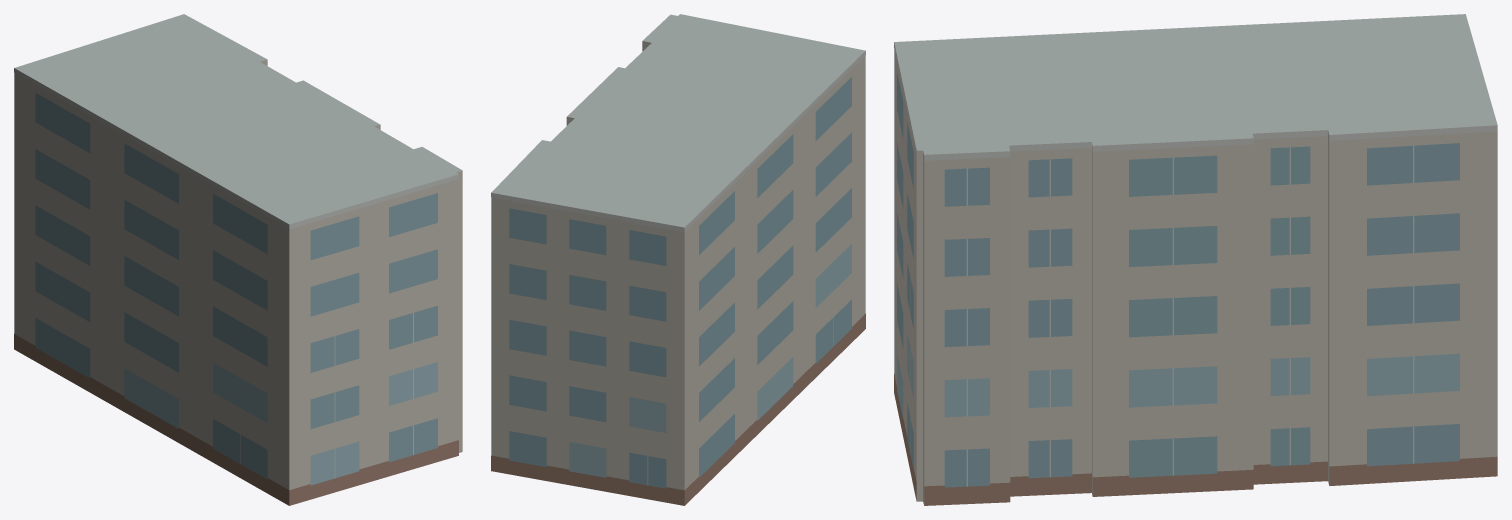
The model's file is survey-upis-32736695.glb.
3 views of the same model, side by side, from view 1: azimuth 30°, elevation 25°; view 2: azimuth 150°, elevation 25°; view 3: azimuth 270°, elevation 25° (orthographic). The views are drawn at different scales.
Visible parts, largest first — view 1: survey-upis-32736695.tmp; view 2: survey-upis-32736695.tmp; view 3: survey-upis-32736695.tmp.
Boxes of the visible parts, x1,y1,x2,y2 form: survey-upis-32736695.tmp: (14,14,462,505); survey-upis-32736695.tmp: (491,14,865,505); survey-upis-32736695.tmp: (894,14,1497,505).
Size of the model in its own units: 12.32 by 14.3 by 22.29.
